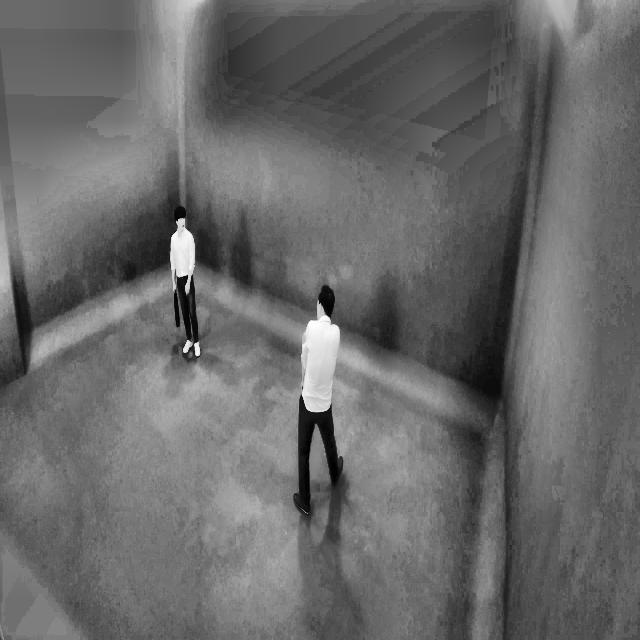assult: (164, 188, 350, 515), (297, 316, 345, 392)
